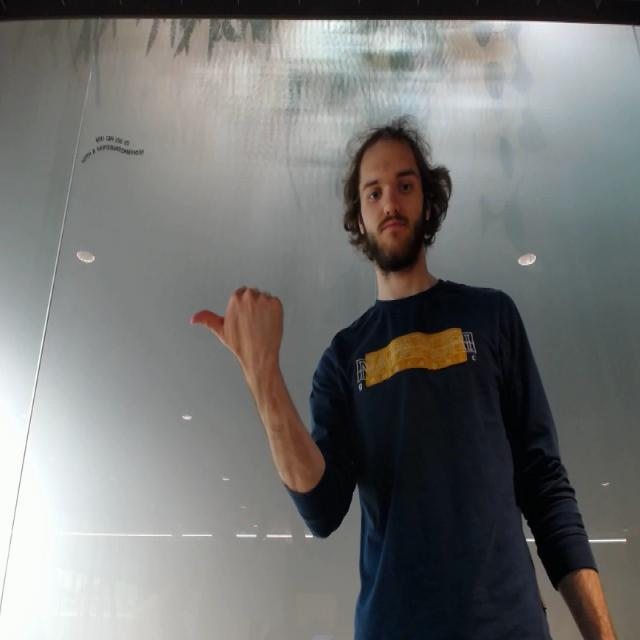left: (185, 281, 288, 376)
